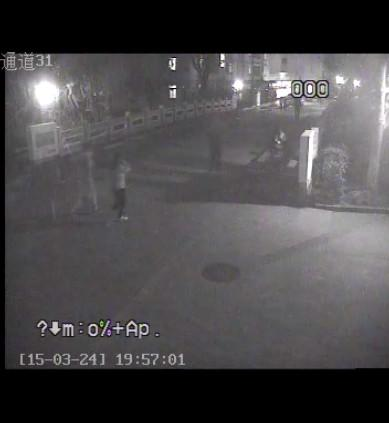person: (72, 139, 99, 219), (107, 151, 132, 226), (203, 126, 229, 176), (291, 99, 305, 128)
